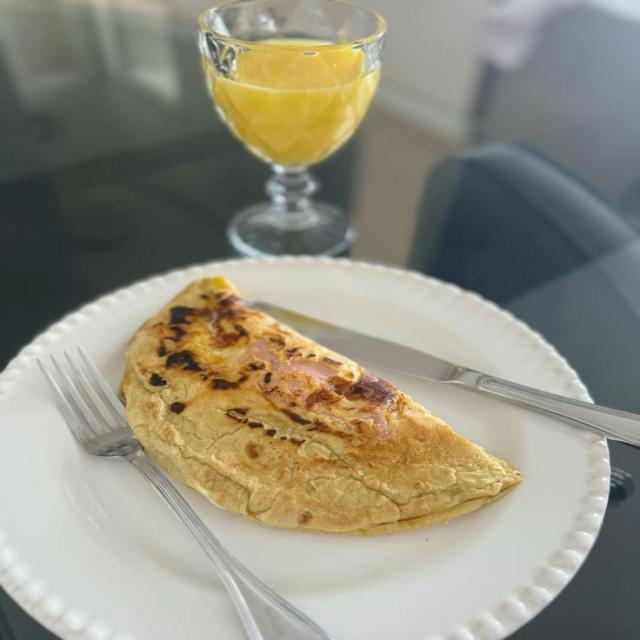omelette: (121, 278, 520, 533)
